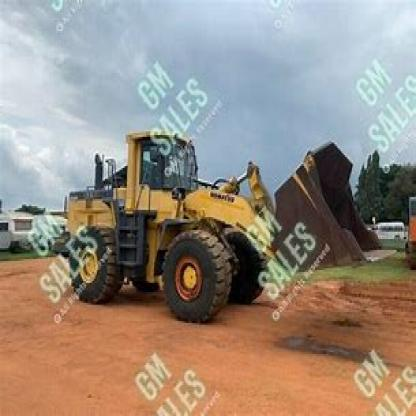bull_dozer/loader/grader: (52, 122, 400, 338)
